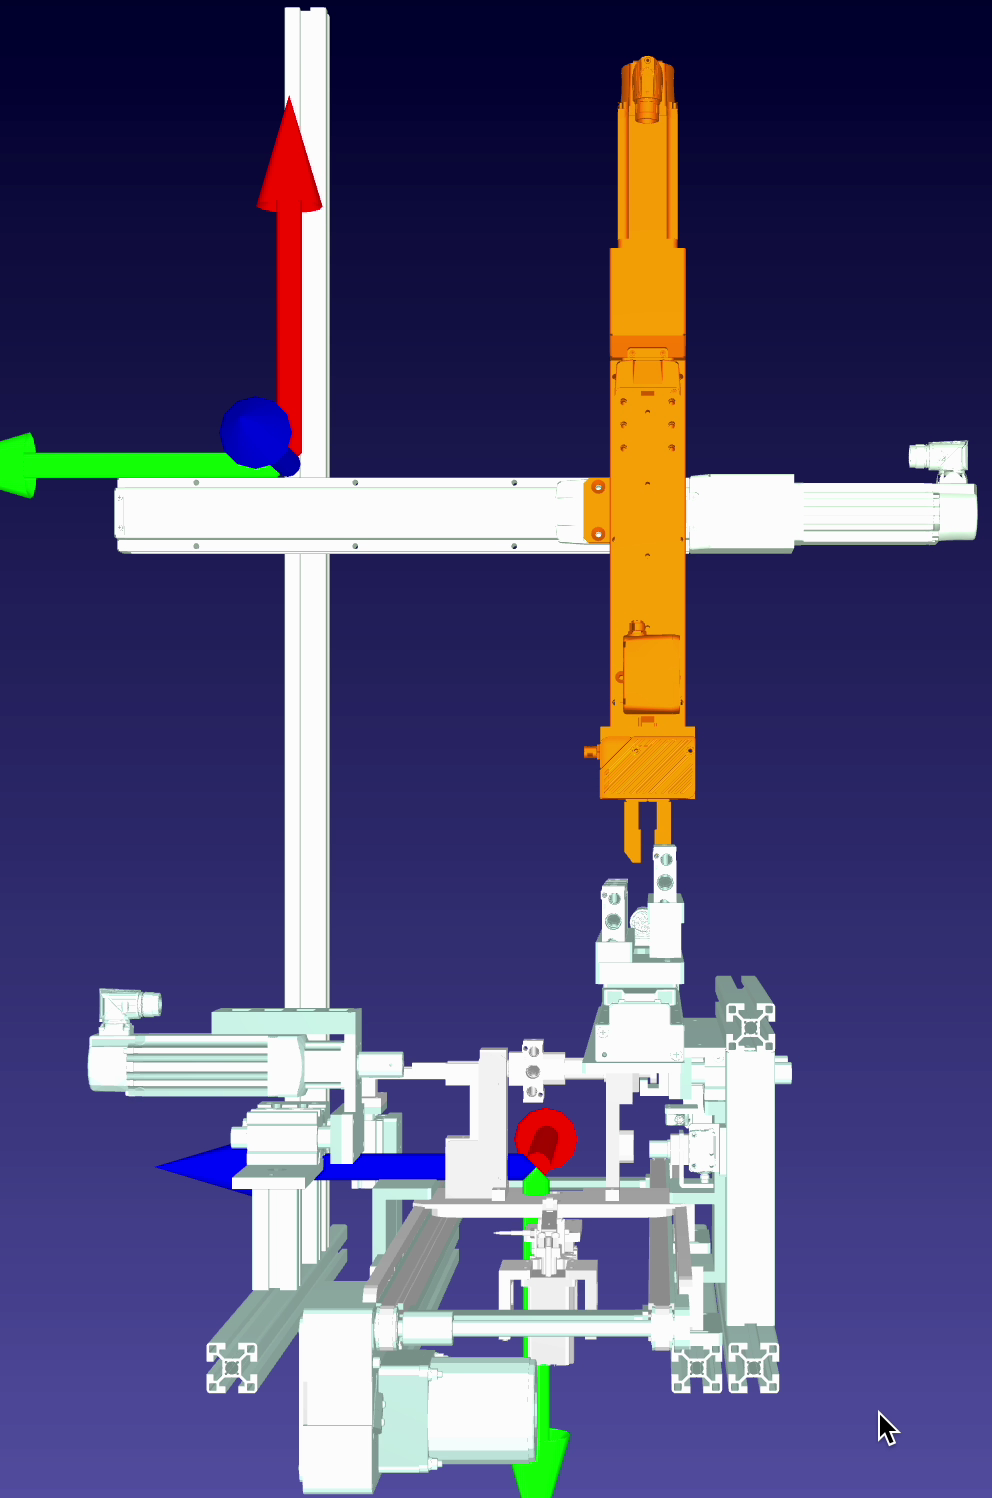Gripper: (579, 706, 695, 834)
